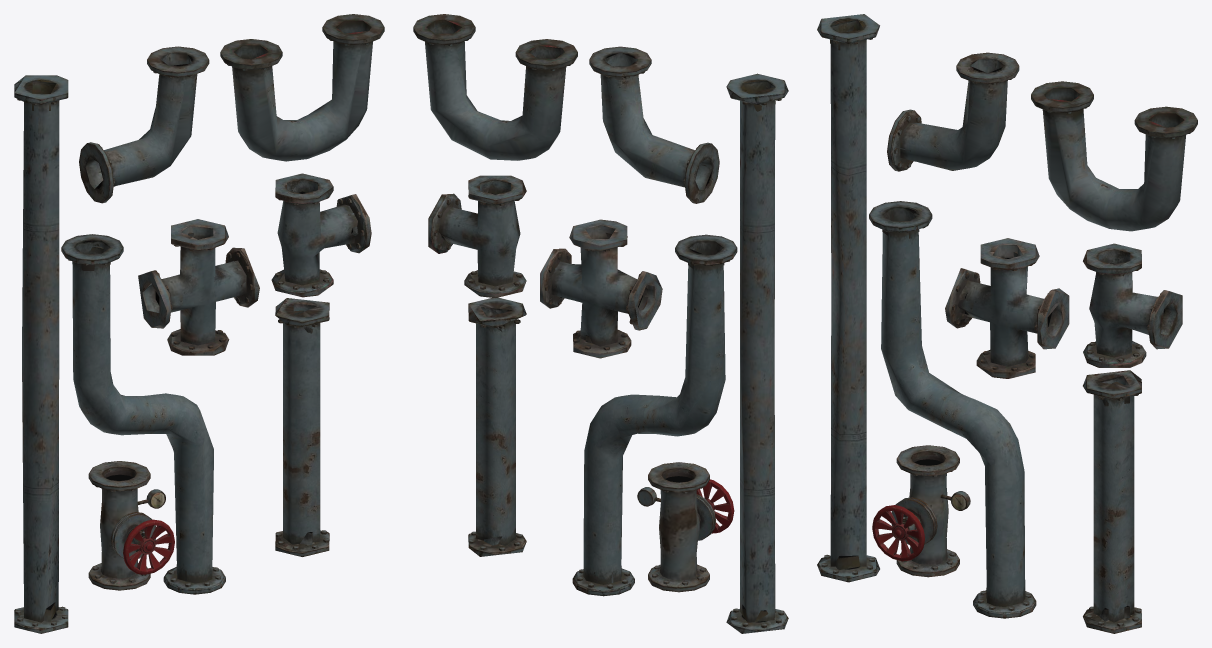
File: industrial-pipes.glb
3 renders of one model, left to right at view 1: azimuth 30°, elevation 25°; view 2: azimuth 150°, elevation 25°; view 3: azimuth 330°, elevation 25°, orthographic.
Parts seen in each view (by area): view 1: modular_industrial_pipes_01_pipe02, modular_industrial_pipes_01_pipe03, modular_industrial_pipes_01_pipe05, modular_industrial_pipes_01_pipe01, modular_industrial_pipes_01_pipe07, modular_industrial_pipes_01_pipe04, modular_industrial_pipes_01_pipe06, modular_industrial_pipes_01_pipe08; view 2: modular_industrial_pipes_01_pipe02, modular_industrial_pipes_01_pipe03, modular_industrial_pipes_01_pipe05, modular_industrial_pipes_01_pipe01, modular_industrial_pipes_01_pipe07, modular_industrial_pipes_01_pipe04, modular_industrial_pipes_01_pipe06, modular_industrial_pipes_01_pipe08; view 3: modular_industrial_pipes_01_pipe02, modular_industrial_pipes_01_pipe03, modular_industrial_pipes_01_pipe05, modular_industrial_pipes_01_pipe01, modular_industrial_pipes_01_pipe07, modular_industrial_pipes_01_pipe04, modular_industrial_pipes_01_pipe06, modular_industrial_pipes_01_pipe08.
Boxes of the visible parts, <box> form: modular_industrial_pipes_01_pipe02: <box>14,75,68,633</box>; modular_industrial_pipes_01_pipe03: <box>61,234,225,594</box>; modular_industrial_pipes_01_pipe05: <box>220,14,384,161</box>; modular_industrial_pipes_01_pipe01: <box>275,298,329,556</box>; modular_industrial_pipes_01_pipe07: <box>138,219,259,355</box>; modular_industrial_pipes_01_pipe04: <box>79,46,209,203</box>; modular_industrial_pipes_01_pipe06: <box>271,173,371,297</box>; modular_industrial_pipes_01_pipe08: <box>88,461,174,590</box>; modular_industrial_pipes_01_pipe02: <box>726,73,788,633</box>; modular_industrial_pipes_01_pipe03: <box>572,234,737,596</box>; modular_industrial_pipes_01_pipe05: <box>413,14,577,160</box>; modular_industrial_pipes_01_pipe01: <box>468,297,526,556</box>; modular_industrial_pipes_01_pipe07: <box>540,219,662,358</box>; modular_industrial_pipes_01_pipe04: <box>589,46,719,203</box>; modular_industrial_pipes_01_pipe06: <box>428,175,526,297</box>; modular_industrial_pipes_01_pipe08: <box>637,462,734,592</box>; modular_industrial_pipes_01_pipe02: <box>817,14,879,582</box>; modular_industrial_pipes_01_pipe03: <box>869,201,1036,618</box>; modular_industrial_pipes_01_pipe05: <box>1031,81,1197,231</box>; modular_industrial_pipes_01_pipe01: <box>1083,370,1141,633</box>; modular_industrial_pipes_01_pipe07: <box>945,238,1069,378</box>; modular_industrial_pipes_01_pipe04: <box>887,52,1019,171</box>; modular_industrial_pipes_01_pipe06: <box>1083,243,1182,367</box>; modular_industrial_pipes_01_pipe08: <box>872,445,970,577</box>.
Bounding box in the file's own units: 1.4 × 1.95 × 0.3075.
Materials: 2 (2 with a texture image).
